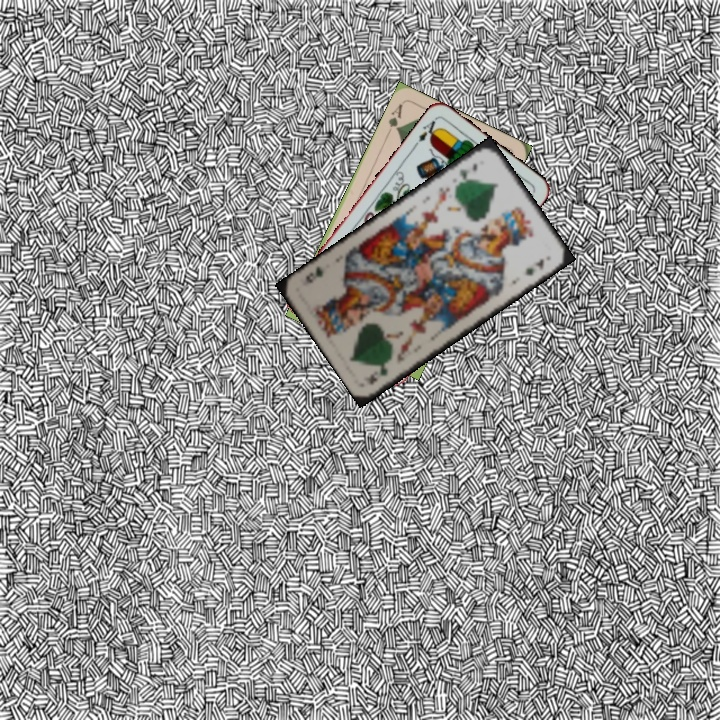EA: (410, 114, 442, 149)
GA: (383, 100, 405, 138)
GK: (361, 361, 390, 388), (455, 159, 481, 183)
